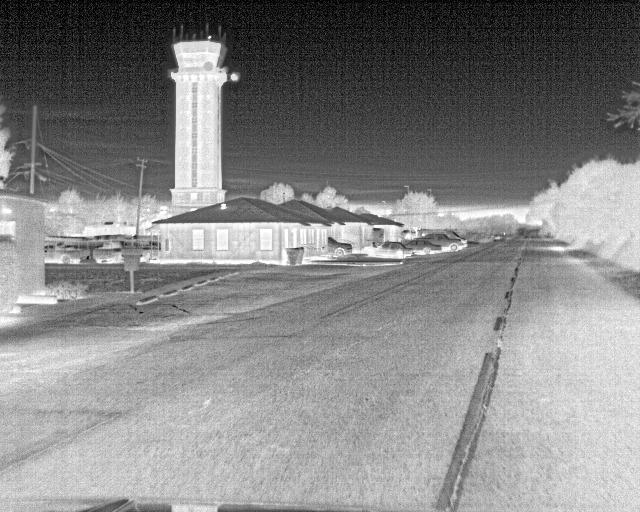car: (44, 240, 86, 264), (418, 230, 461, 253), (361, 241, 412, 260), (91, 242, 123, 265), (325, 233, 352, 260), (402, 237, 441, 255)
